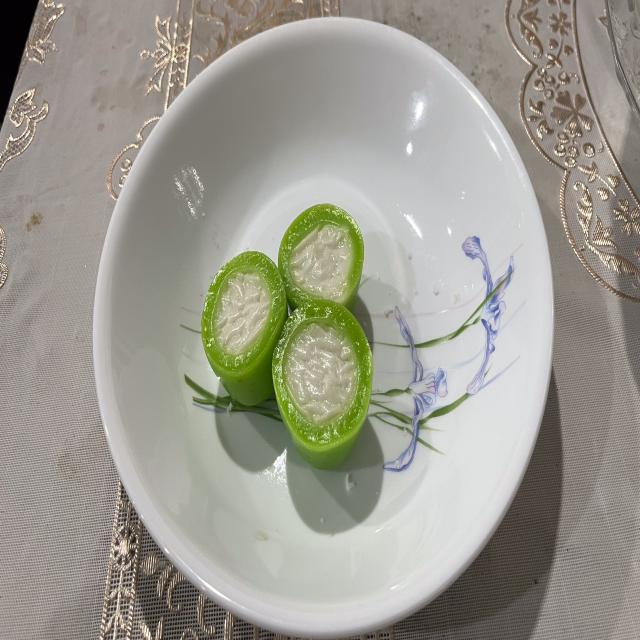nona-manis: (272, 300, 372, 469), (201, 251, 288, 407), (279, 204, 364, 311)
